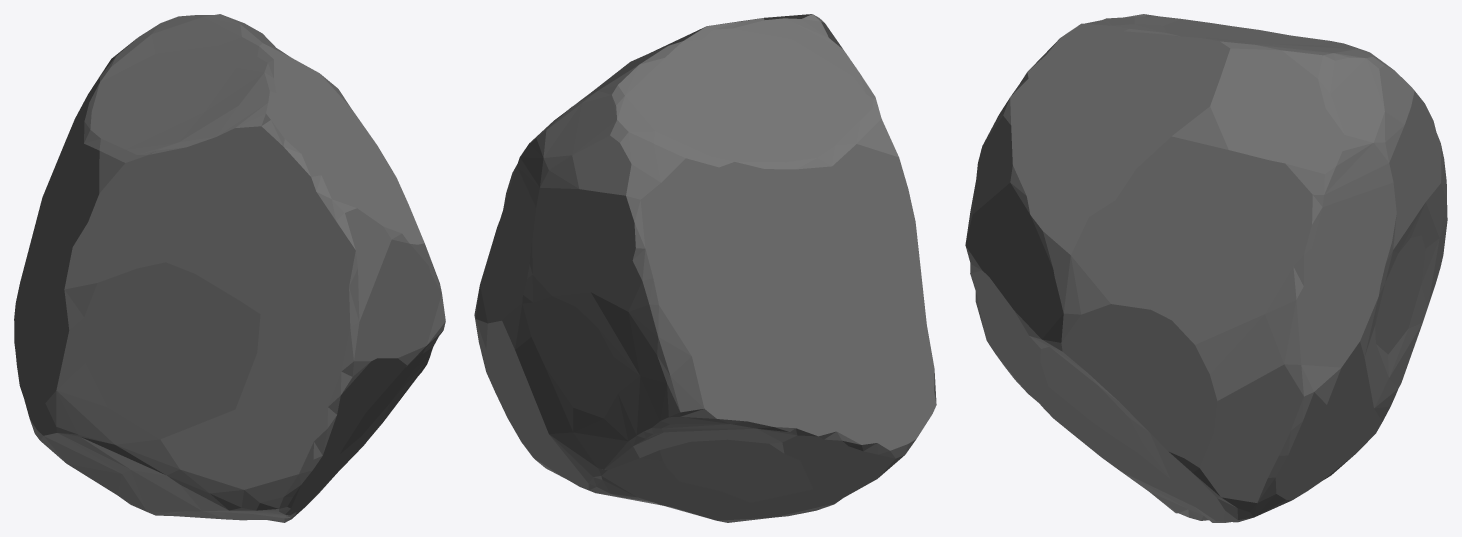
Rendered from Rock 1.glb.
The picture shows the model from 3 angles, left to right: view 1: azimuth 30°, elevation 25°; view 2: azimuth 150°, elevation 25°; view 3: azimuth 270°, elevation 25°; orthographic projection. The views are drawn at different scales.
Visible parts, largest first — view 1: Cube; view 2: Cube; view 3: Cube.
Boxes of the visible parts, x1,y1,x2,y2 form: Cube: (14,14,445,522); Cube: (474,14,936,522); Cube: (965,14,1447,522).
Size of the model in its own units: 0.8598 by 0.977 by 0.9096.
1 material, 1 textured.
